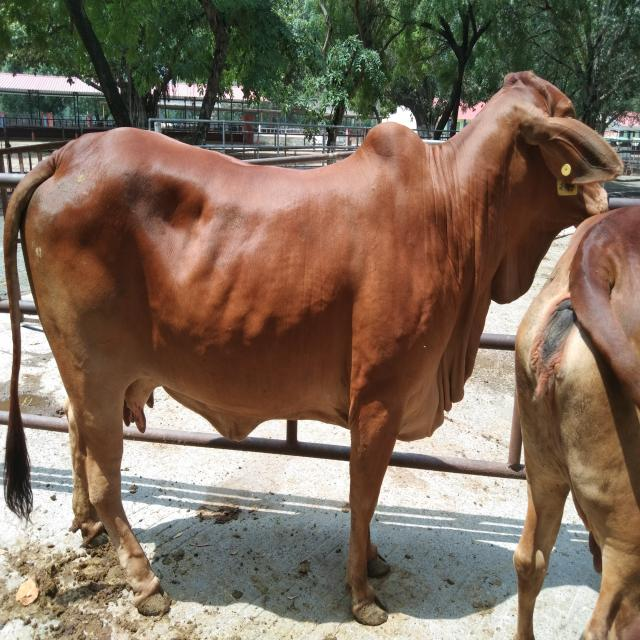cow: (1, 69, 625, 627)
hump: (361, 120, 425, 161)
